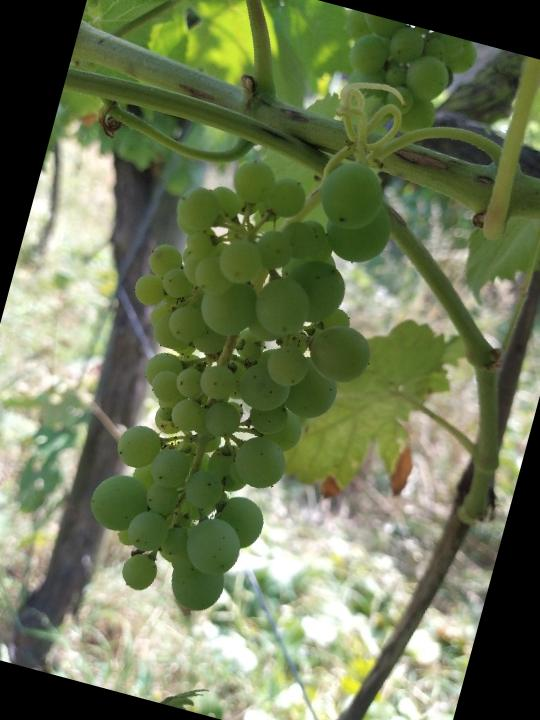grape: (51, 102, 429, 645)
